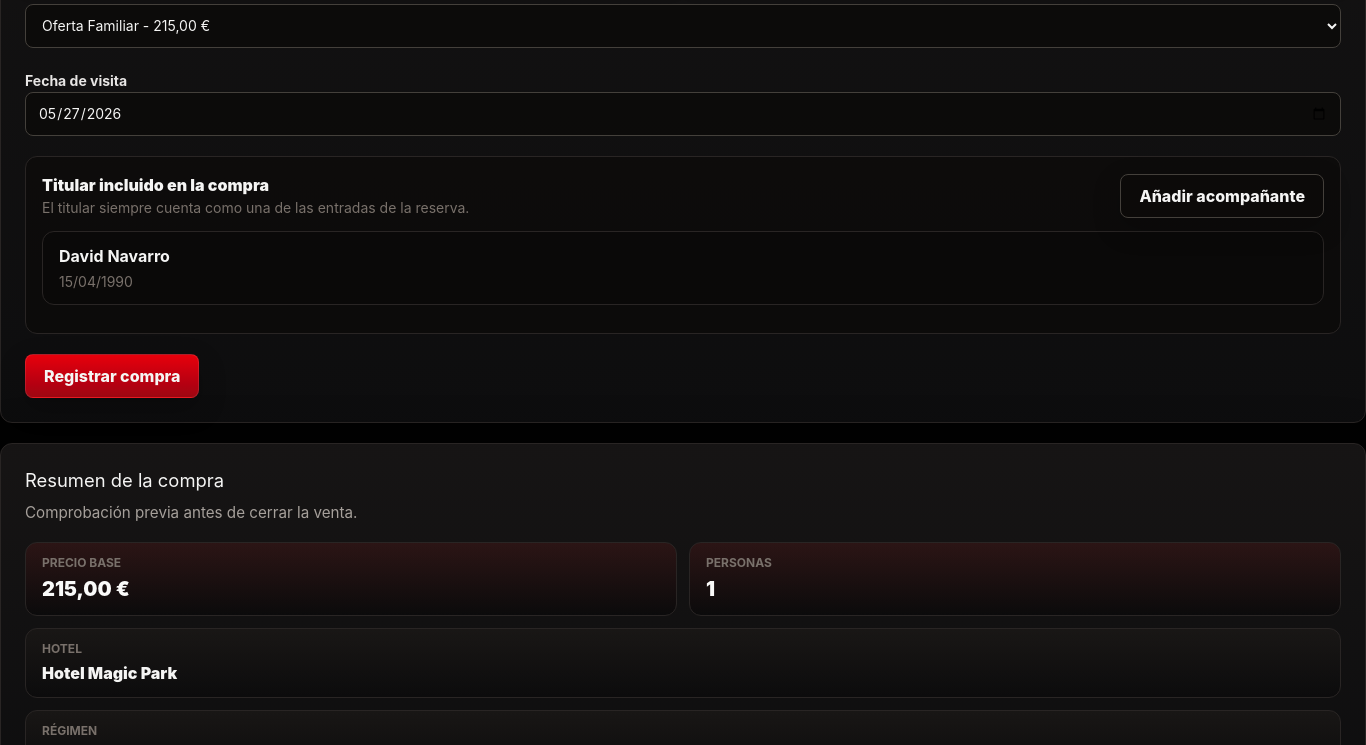
Scenario: BookingDesk › shows when the booking was created but the confirmation email could not be sent
(page scrolled)
What coordinates should you click on to do the following:
click the button "Registrar compra"
I would click on:
 (112, 376)
Its box is [25,354,199,398].
(page scrolled)
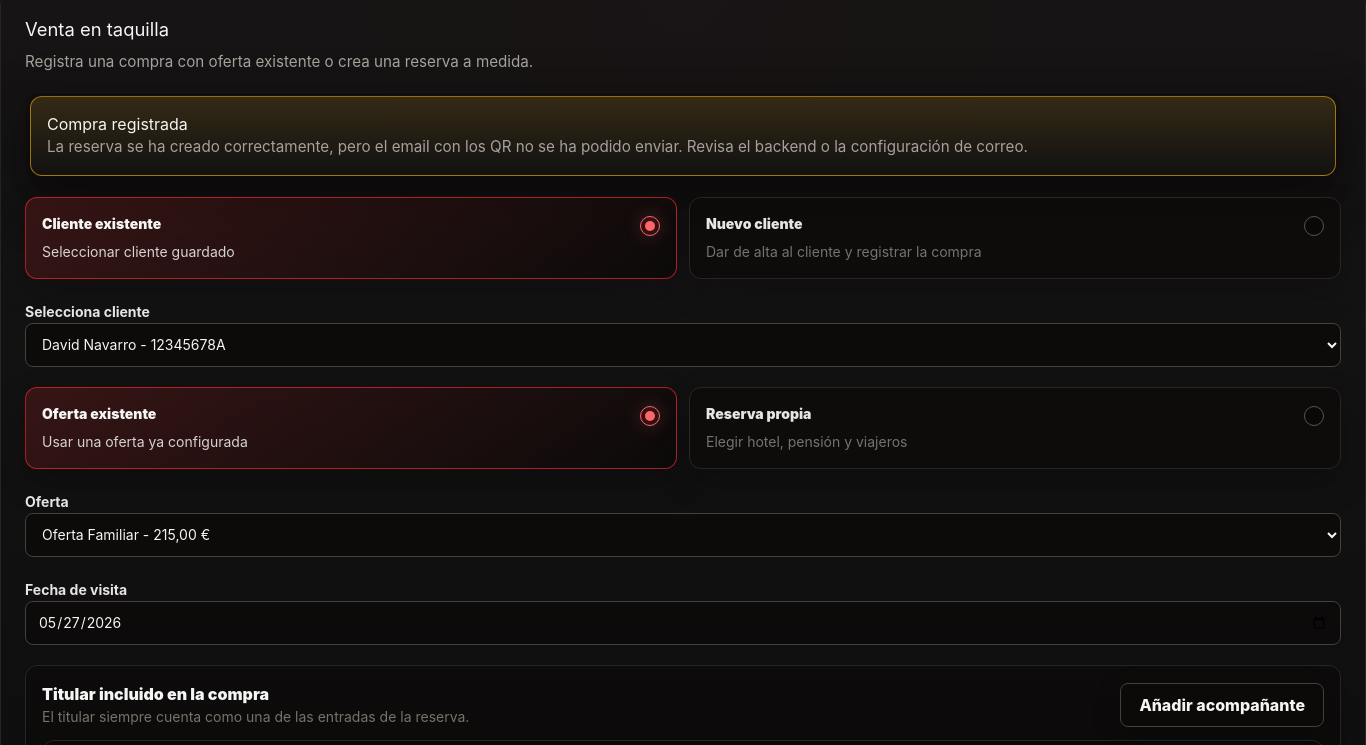
Now the text "La reserva se ha creado correctamente, pero el email con los QR no se ha podido enviar. Revisa el backend o la configura" is shown, box [47,137,1028,156]
